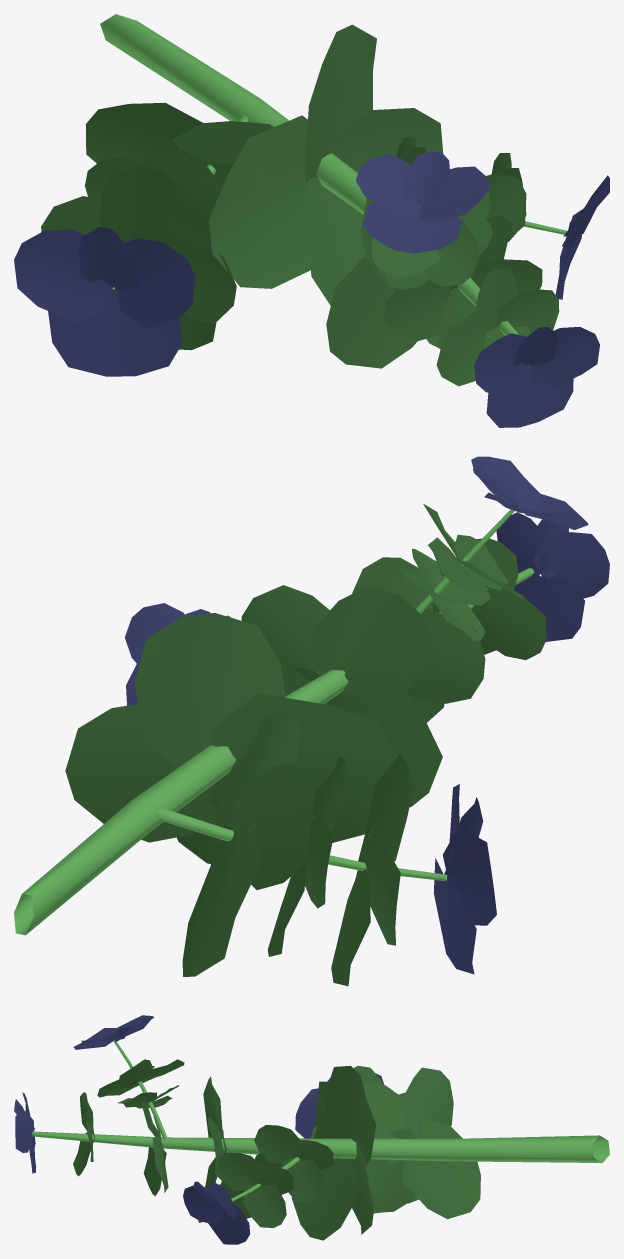
The model's file is Ereprijs_tall.dae.
3 views of the same model, one above another, from view 1: azimuth 30°, elevation 25°; view 2: azimuth 150°, elevation 25°; view 3: azimuth 270°, elevation 25° (orthographic). The views are drawn at different scales.
Parts seen in each view (by area): view 1: pPlane53, polySurface1, pPlane21, pPlane54, pPlane22, pPlane37, pPlane3, pPlane6, pPlane56, pPlane24, pPlane55, pPlane4 (+26 smaller); view 2: pPlane54, pPlane53, polySurface1, pPlane55, pPlane38, pPlane6, pPlane5, pPlane37, pPlane39, pPlane57, pPlane7, pPlane49 (+22 smaller); view 3: polySurface1, pPlane5, pPlane56, pPlane54, pPlane6, pPlane8, pPlane7, pPlane20, pPlane16, pPlane14, pPlane18, pPlane55 (+23 smaller).
Part boxes in pixels (<box>): pPlane53: <box>208,115,310,288</box>; polySurface1: <box>100,14,518,335</box>; pPlane21: <box>48,289,182,376</box>; pPlane54: <box>305,24,376,183</box>; pPlane22: <box>14,229,112,322</box>; pPlane37: <box>326,256,417,368</box>; pPlane3: <box>99,166,199,241</box>; pPlane6: <box>85,102,207,164</box>; pPlane56: <box>305,178,365,305</box>; pPlane24: <box>114,238,195,327</box>; pPlane55: <box>330,108,443,172</box>; pPlane4: <box>158,217,236,323</box>; pPlane54: <box>135,613,285,768</box>; pPlane53: <box>209,693,396,842</box>; polySurface1: <box>14,568,534,935</box>; pPlane55: <box>65,704,225,842</box>; pPlane38: <box>311,585,433,691</box>; pPlane6: <box>236,762,313,889</box>; pPlane5: <box>182,822,261,976</box>; pPlane37: <box>328,664,442,807</box>; pPlane39: <box>241,585,352,704</box>; pPlane57: <box>407,607,485,703</box>; pPlane7: <box>217,711,300,843</box>; pPlane49: <box>471,586,546,659</box>; polySurface1: <box>32,1131,609,1162</box>; pPlane5: <box>403,1120,480,1219</box>; pPlane56: <box>291,1138,359,1240</box>; pPlane54: <box>325,1065,376,1165</box>; pPlane6: <box>399,1067,453,1137</box>; pPlane8: <box>366,1128,415,1212</box>; pPlane7: <box>363,1083,424,1163</box>; pPlane20: <box>242,1184,286,1227</box>; pPlane16: <box>281,1158,323,1203</box>; pPlane14: <box>254,1125,300,1163</box>; pPlane18: <box>216,1152,260,1190</box>; pPlane55: <box>352,1133,373,1234</box>.
Bounding box in the file's own units: 19.77 × 13.04 × 34.19.
